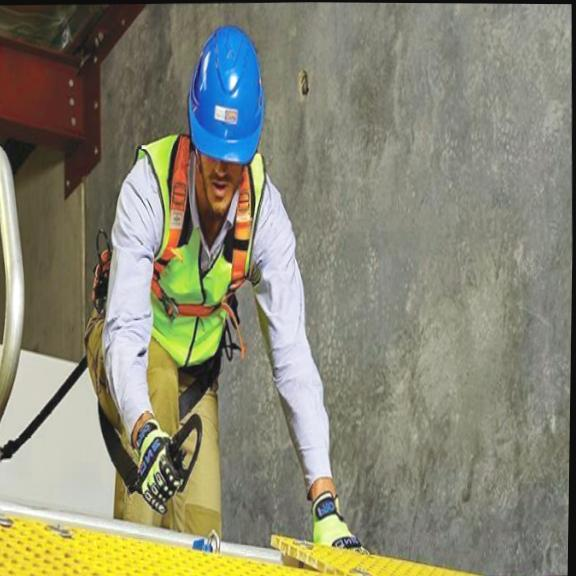safety_vest: (139, 154, 271, 372)
